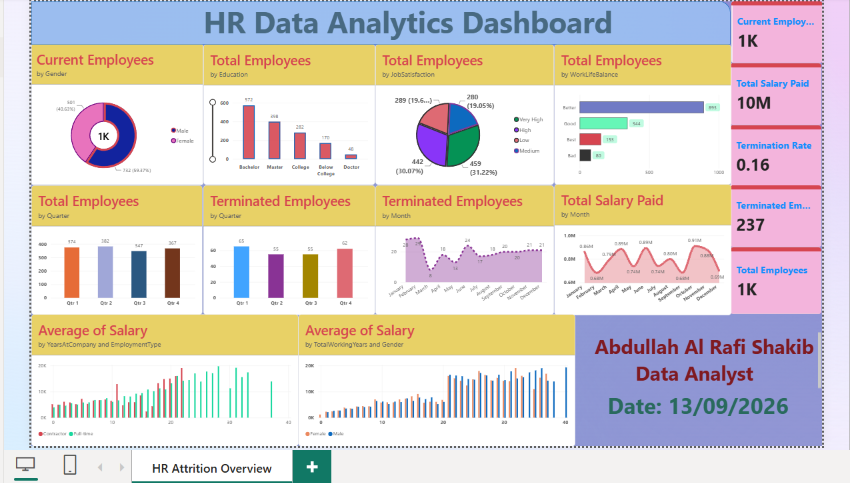

What the dashboard file says about the page in this screenshot:
{"tool":"powerbi","page":{"name":"Challenge 2","canvas":[1920,1080],"ordinal":0},"visuals":[{"type":"cardVisual","fields":{"Data":["Dataset.Current Employees"]},"box":[1700.2,0,221,150.6],"z":0},{"type":"cardVisual","fields":{"Data":["Dataset.Total Employees"]},"box":[1697.8,597.5,221,162.7],"z":1000},{"type":"cardVisual","fields":{"Data":["Dataset.Total Salary Paid"]},"box":[1698.8,150.3,221.9,150.3],"z":2000},{"type":"cardVisual","fields":{"Data":["Dataset.Termination Rate"]},"box":[1698.8,300.6,221.9,150.3],"z":3000},{"type":"cardVisual","fields":{"Data":["Dataset.Terminated Employees"]},"box":[1698.8,446.2,221.9,150.3],"z":4000},{"type":"donutChart","fields":{"Category":["Dataset.Gender"],"Y":["Dataset.Current Employees"]},"box":[0,105,417.5,341.2],"z":5000},{"type":"clusteredColumnChart","fields":{"Category":["Dataset.Education"],"Y":["Dataset.Total Employees"]},"box":[417.5,105,417.5,341.2],"z":6000},{"type":"pieChart","fields":{"Category":["Dataset.JobSatisfaction"],"Y":["Dataset.Total Employees"]},"box":[835.1,105,434.2,341.2],"z":7000},{"type":"barChart","fields":{"Category":["Dataset.WorkLifeBalance"],"Y":["Dataset.Total Employees"]},"box":[1269.3,105,429.5,341.2],"z":8000},{"type":"clusteredColumnChart","fields":{"Category":["Dataset.DateStart.Variation.Date Hierarchy.Quarter"],"Y":["Dataset.Total Employees"]},"box":[0,446.2,415.1,314.9],"z":9000},{"type":"clusteredColumnChart","fields":{"Category":["Dataset.DateDeparture.Variation.Date Hierarchy.Quarter"],"Y":["Dataset.Terminated Employees"]},"box":[417.5,446.2,417.5,314.9],"z":10000},{"type":"lineChart","fields":{"Y":["Dataset.Terminated Employees"],"Category":["Dataset.DateDeparture.Variation.Date Hierarchy.Month"]},"box":[835.1,446.2,434.2,314.9],"z":11000},{"type":"lineChart","fields":{"Category":["Dataset.DateStart.Variation.Date Hierarchy.Month"],"Y":["Dataset.Total Salary Paid"]},"box":[1270.3,444.5,429.9,318.2],"z":12000},{"type":"clusteredColumnChart","fields":{"Category":["Dataset.YearsAtCompany"],"Series":["Dataset.EmploymentType"],"Y":["Avg(Dataset.Salary)"]},"box":[0,760.2,648.5,320.6],"z":13000},{"type":"clusteredColumnChart","fields":{"Category":["Dataset.TotalWorkingYears"],"Series":["Dataset.Gender"],"Y":["Avg(Dataset.Salary)"]},"box":[648.5,760.2,672.8,320.6],"z":14000},{"type":"textbox","box":[1321.3,803.9,597.5,140.9],"z":15000},{"type":"textbox","box":[1340.7,944.8,556.2,77.7],"z":16000},{"type":"shape","box":[0,0,1697.8,104.4],"z":17000},{"type":"textbox","box":[417.8,0,1136.7,206.5],"z":18000}]}

Visuals, with their boxes on the page's 1920x1080 design canvas (x1, y1, x2, y2). These are canvas units, not pixel positions in the 850x483 screenshot, which may show the page scaled, cropped or inside an application window:
cardVisual - Dataset.Current Employees: {"x1": 1700, "y1": 0, "x2": 1921, "y2": 151}
cardVisual - Dataset.Total Employees: {"x1": 1698, "y1": 598, "x2": 1919, "y2": 760}
cardVisual - Dataset.Total Salary Paid: {"x1": 1699, "y1": 150, "x2": 1921, "y2": 301}
cardVisual - Dataset.Termination Rate: {"x1": 1699, "y1": 301, "x2": 1921, "y2": 451}
cardVisual - Dataset.Terminated Employees: {"x1": 1699, "y1": 446, "x2": 1921, "y2": 596}
donutChart - Dataset.Gender x Dataset.Current Employees: {"x1": 0, "y1": 105, "x2": 418, "y2": 446}
clusteredColumnChart - Dataset.Education x Dataset.Total Employees: {"x1": 418, "y1": 105, "x2": 835, "y2": 446}
pieChart - Dataset.JobSatisfaction x Dataset.Total Employees: {"x1": 835, "y1": 105, "x2": 1269, "y2": 446}
barChart - Dataset.WorkLifeBalance x Dataset.Total Employees: {"x1": 1269, "y1": 105, "x2": 1699, "y2": 446}
clusteredColumnChart - Dataset.DateStart.Variation.Date Hierarchy.Quarter x Dataset.Total Employees: {"x1": 0, "y1": 446, "x2": 415, "y2": 761}
clusteredColumnChart - Dataset.DateDeparture.Variation.Date Hierarchy.Quarter x Dataset.Terminated Employees: {"x1": 418, "y1": 446, "x2": 835, "y2": 761}
lineChart - Dataset.Terminated Employees x Dataset.DateDeparture.Variation.Date Hierarchy.Month: {"x1": 835, "y1": 446, "x2": 1269, "y2": 761}
lineChart - Dataset.DateStart.Variation.Date Hierarchy.Month x Dataset.Total Salary Paid: {"x1": 1270, "y1": 444, "x2": 1700, "y2": 763}
clusteredColumnChart - Dataset.YearsAtCompany x Dataset.EmploymentType: {"x1": 0, "y1": 760, "x2": 648, "y2": 1081}
clusteredColumnChart - Dataset.TotalWorkingYears x Dataset.Gender: {"x1": 648, "y1": 760, "x2": 1321, "y2": 1081}
textbox: {"x1": 1321, "y1": 804, "x2": 1919, "y2": 945}
textbox: {"x1": 1341, "y1": 945, "x2": 1897, "y2": 1022}
shape: {"x1": 0, "y1": 0, "x2": 1698, "y2": 104}
textbox: {"x1": 418, "y1": 0, "x2": 1554, "y2": 206}
